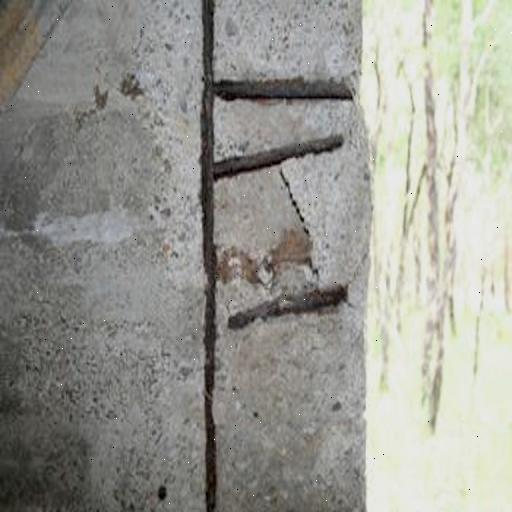spalling: (158, 66, 358, 344)
